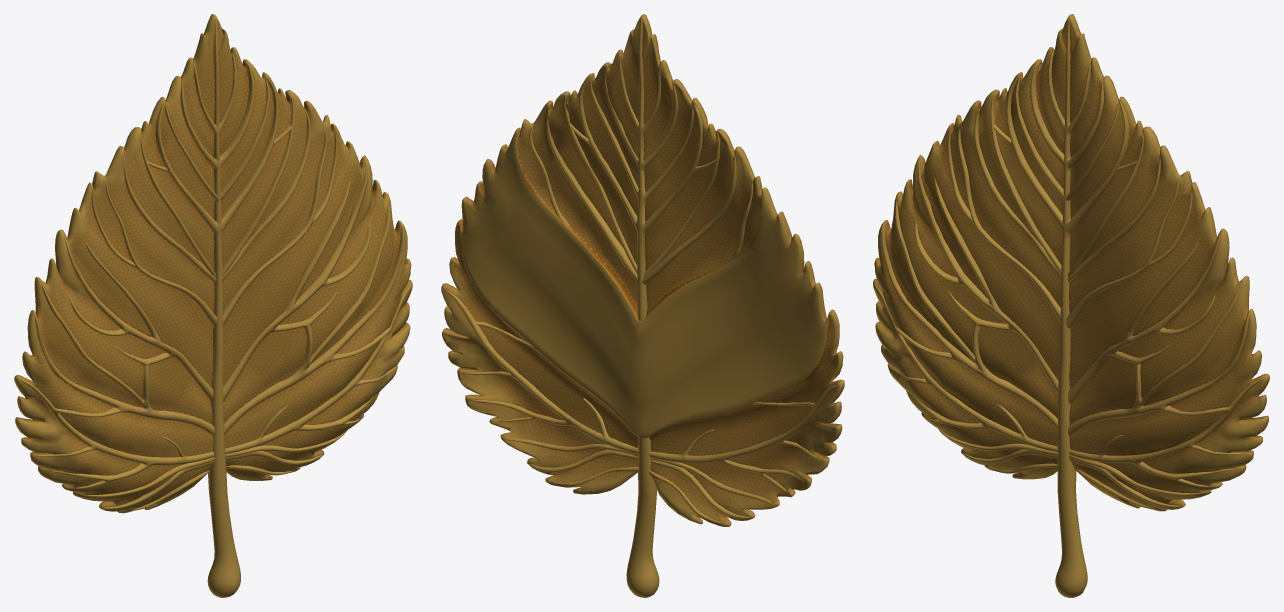
The model's file is leaf-web.glb.
3 views of the same model, side by side, from view 1: azimuth 30°, elevation 25°; view 2: azimuth 150°, elevation 25°; view 3: azimuth 330°, elevation 25° (orthographic).
Visible parts, largest first — view 1: leaf1_lp, leaf_lp; view 2: leaf1_lp, leaf_lp; view 3: leaf1_lp, leaf_lp.
Boxes of the visible parts, <box> form: leaf1_lp: <box>14,14,412,513</box>; leaf_lp: <box>19,19,411,597</box>; leaf1_lp: <box>441,14,844,526</box>; leaf_lp: <box>445,17,836,597</box>; leaf1_lp: <box>873,14,1269,511</box>; leaf_lp: <box>874,19,1264,597</box>.
Bounding box in the file's own units: 0.0507 × 0.0708 × 0.0052.
Materials: 1 (1 with a texture image).
